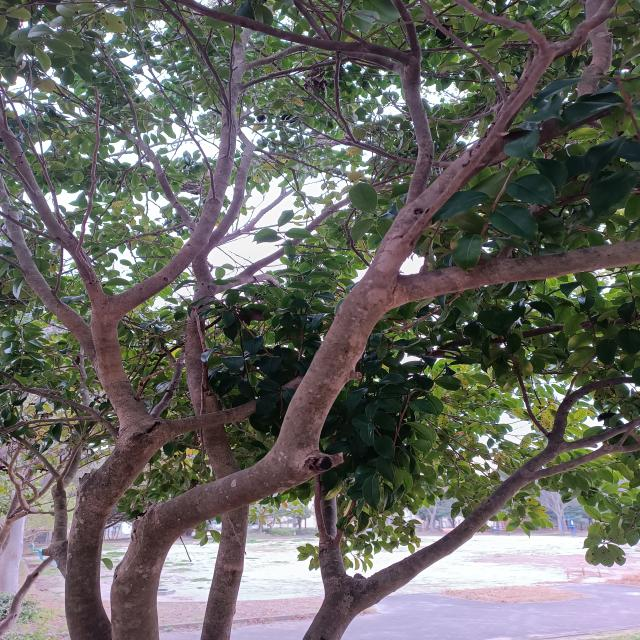Branch: (366, 442, 567, 608), (120, 59, 245, 310), (278, 274, 402, 455), (366, 127, 511, 273), (404, 242, 640, 306), (184, 254, 238, 480), (91, 295, 156, 430), (399, 53, 435, 202), (578, 0, 613, 97), (318, 487, 350, 588)
Twig: (404, 0, 555, 242), (0, 113, 105, 303), (1, 179, 93, 366), (168, 0, 407, 60), (171, 374, 305, 434), (120, 130, 195, 233), (292, 0, 397, 73), (548, 377, 638, 445), (530, 443, 638, 481), (554, 0, 617, 58), (567, 420, 639, 450), (390, 0, 422, 56)
